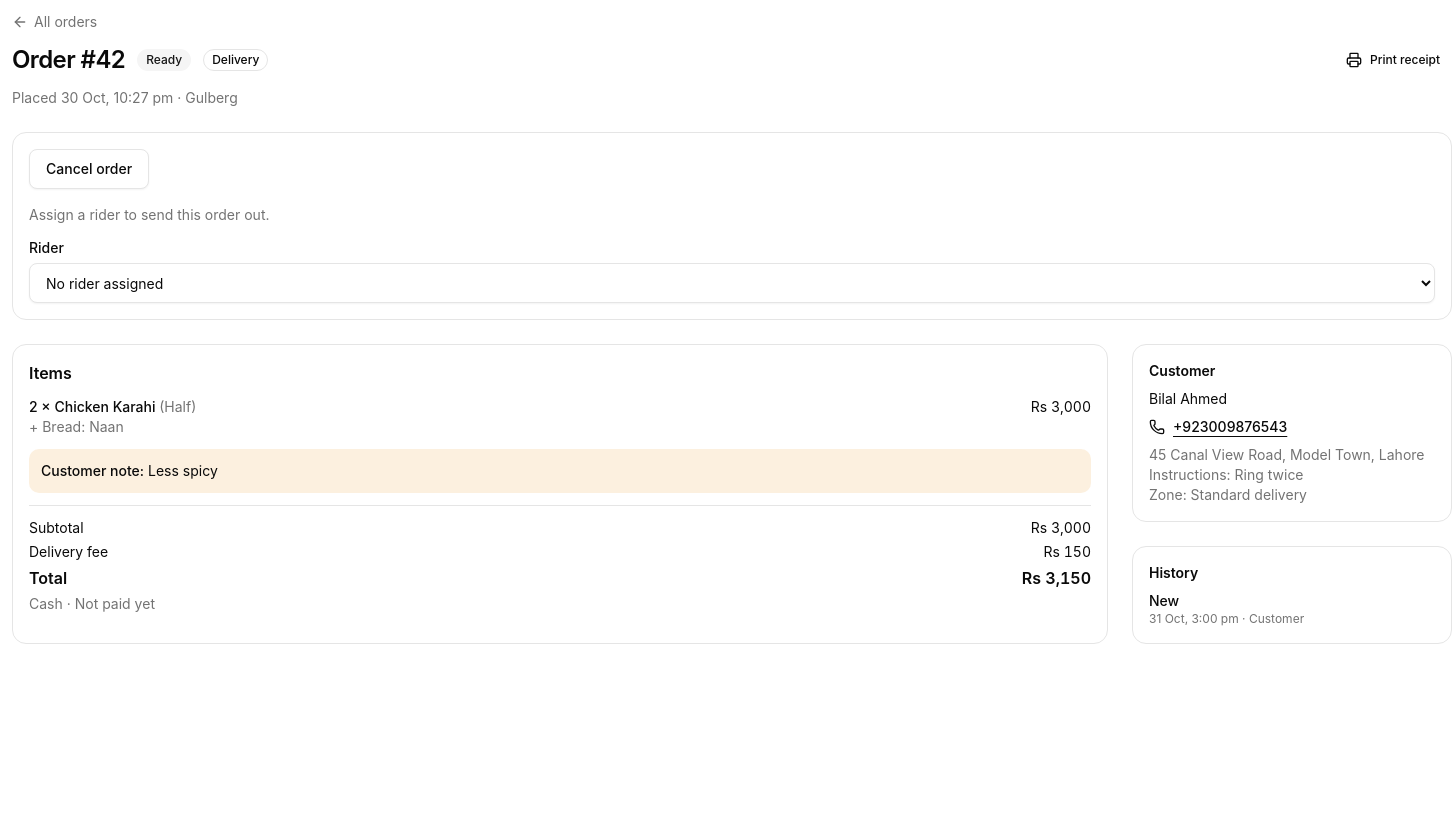
Scenario: OrderDetailPage › assigns a rider from the order branch with the current rider as the expected value
Expected: the text "Assign a rider to send this order out." is shown, [29, 206, 270, 223]
Select "Imran Khan" in the dropdown labelled "Rider" at (732, 283), box [29, 263, 1435, 303]
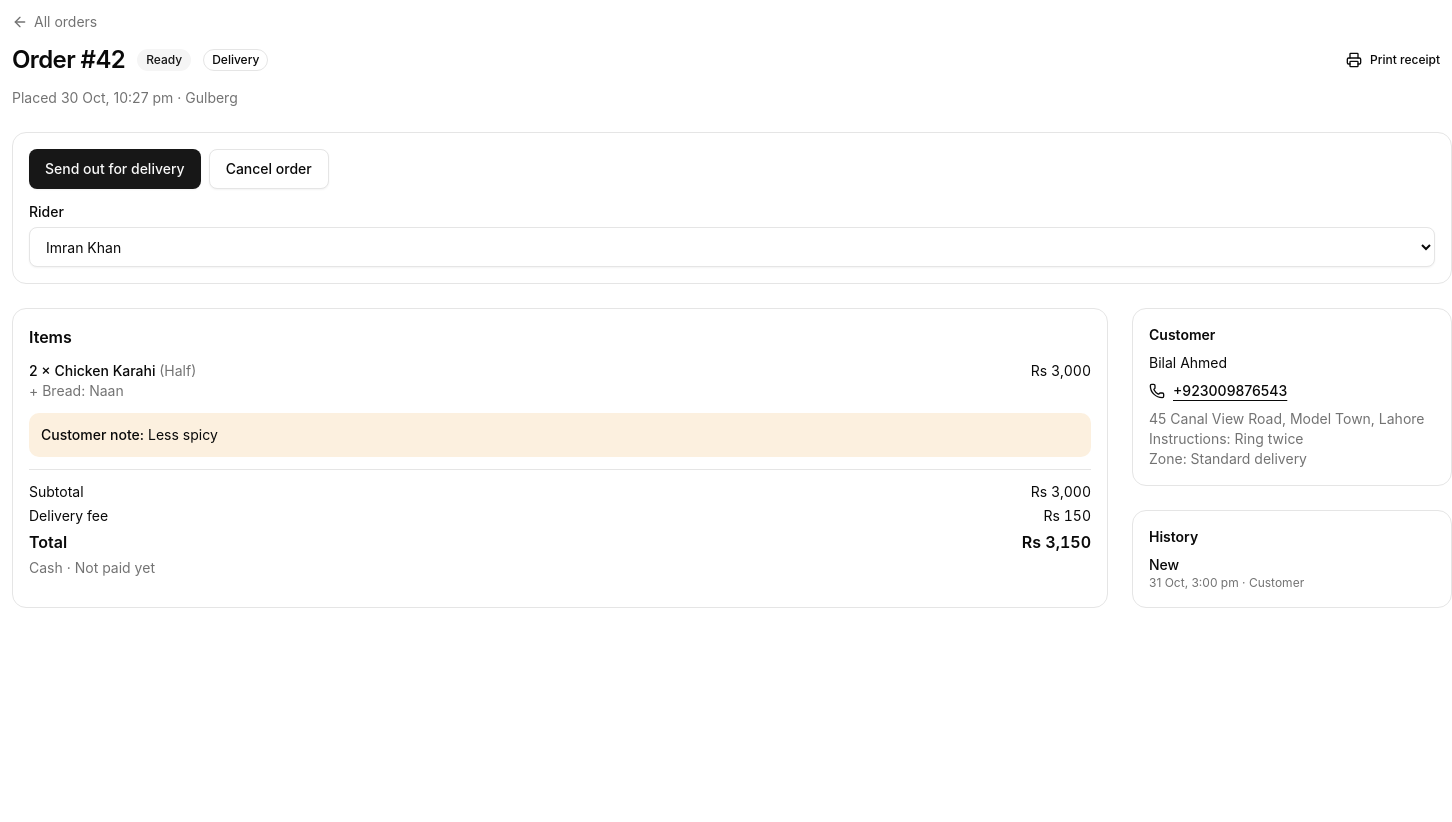
Result: the button with aria-label "Send out for delivery order #42" is shown at [29, 149, 201, 189]
